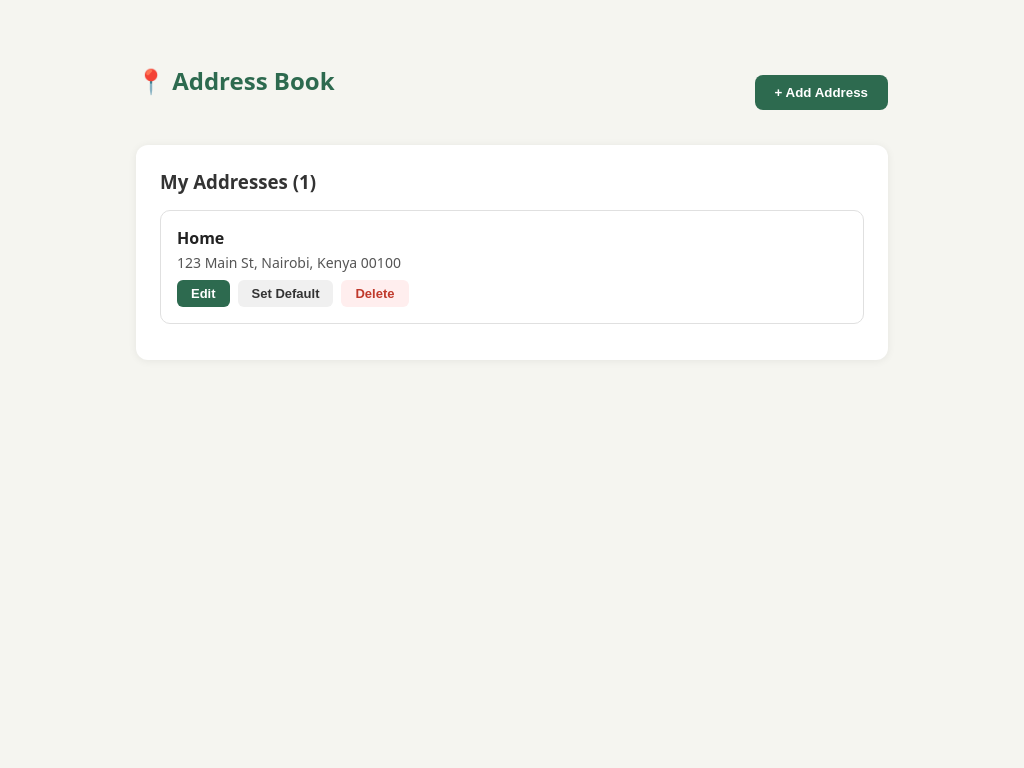
AddressBook delete confirmation (#430) › shows confirmation dialog when delete is clicked
Click the button "Delete": (375, 294) [342, 280, 408, 307]
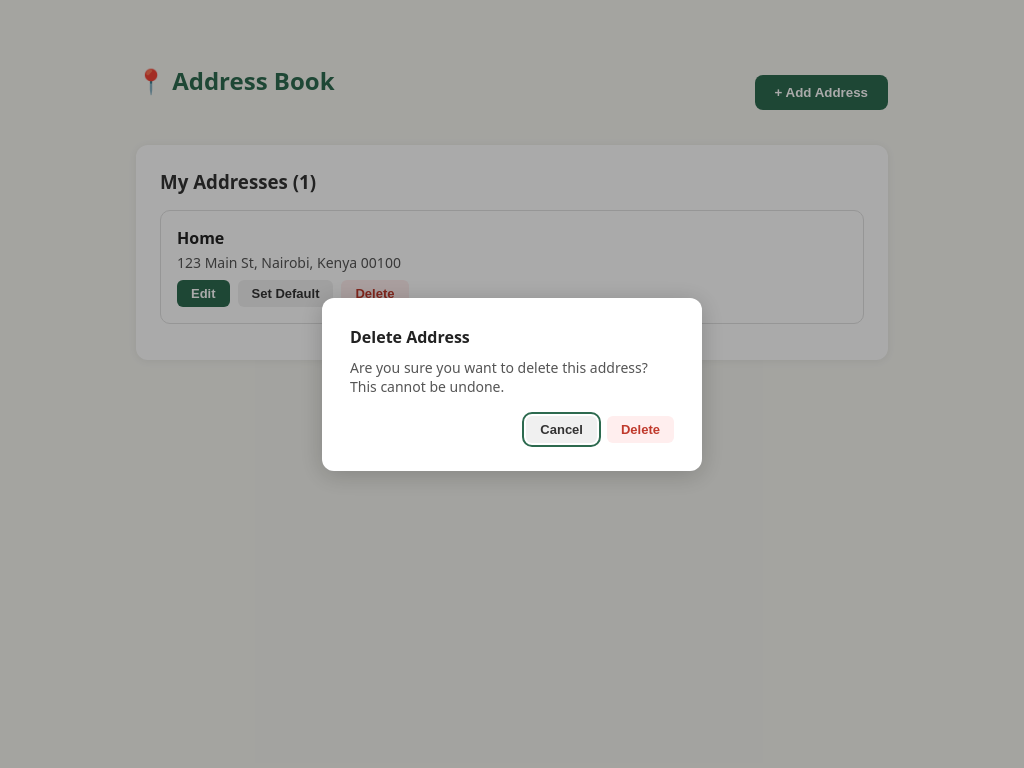
Check: the dialog is shown
Check: the text "Are you sure you want to delete this address? This cannot be undone." is shown, box [350, 358, 674, 396]
